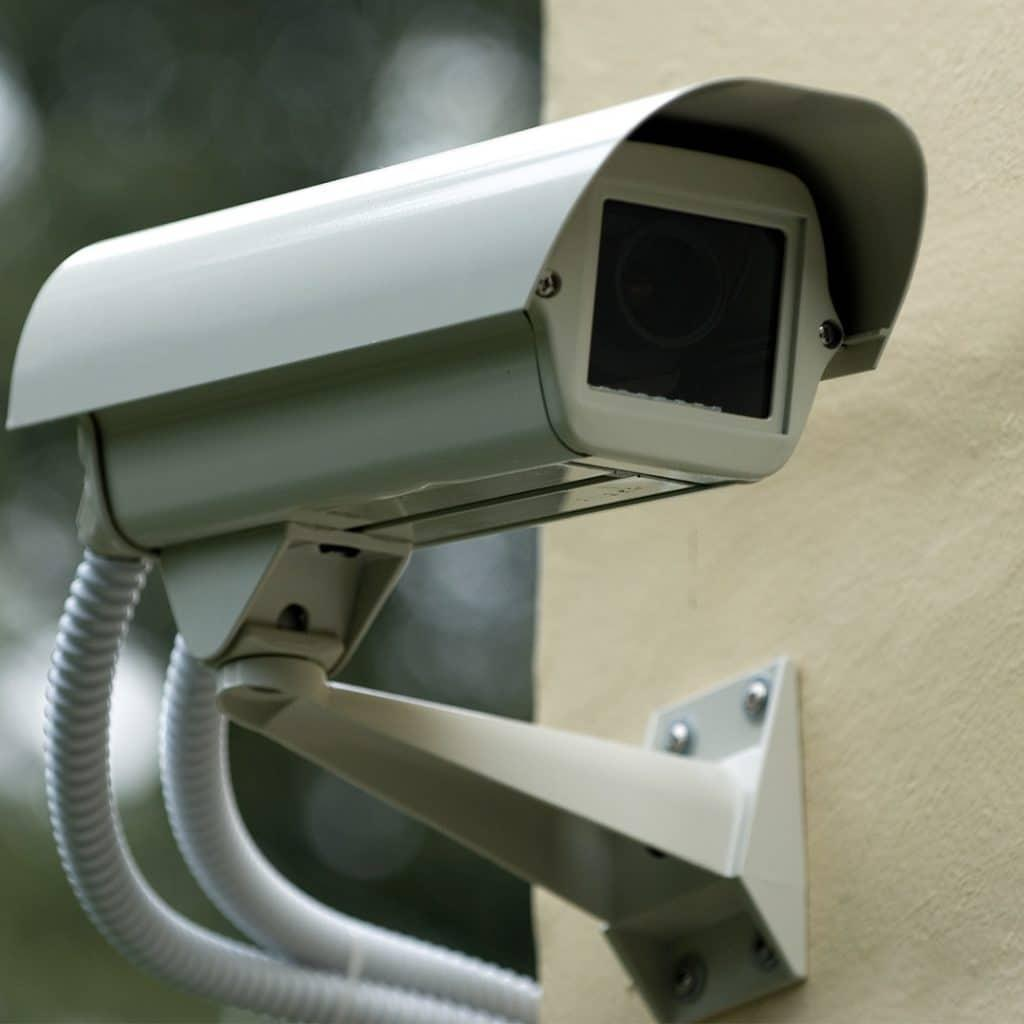CCTV: (6, 78, 927, 1024)
